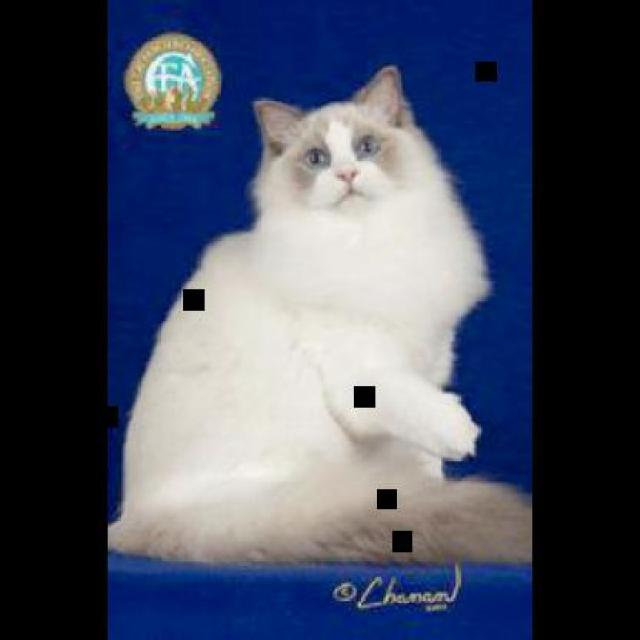unauthorized: (106, 63, 531, 566)
